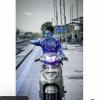motorcycles: (42, 52, 68, 100)
